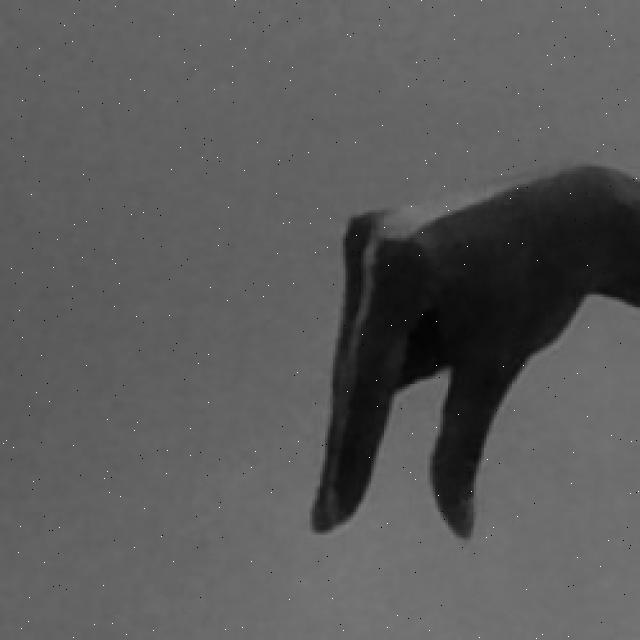Q: (304, 151, 640, 548)
